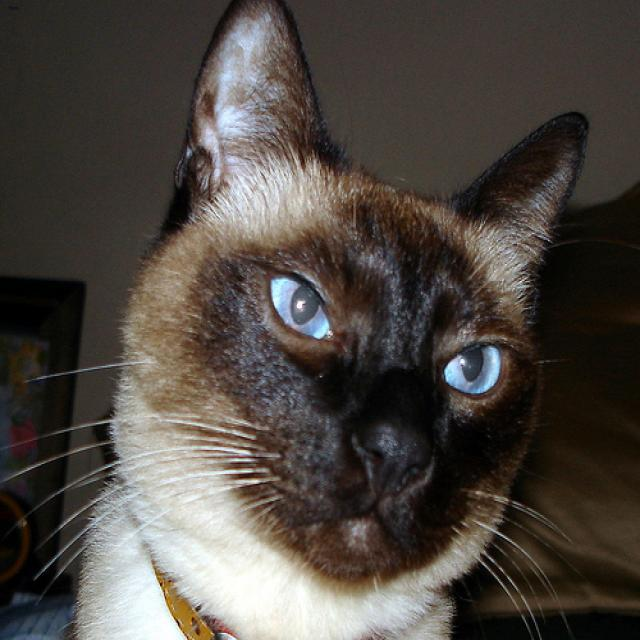Siamese: (118, 0, 592, 591)
